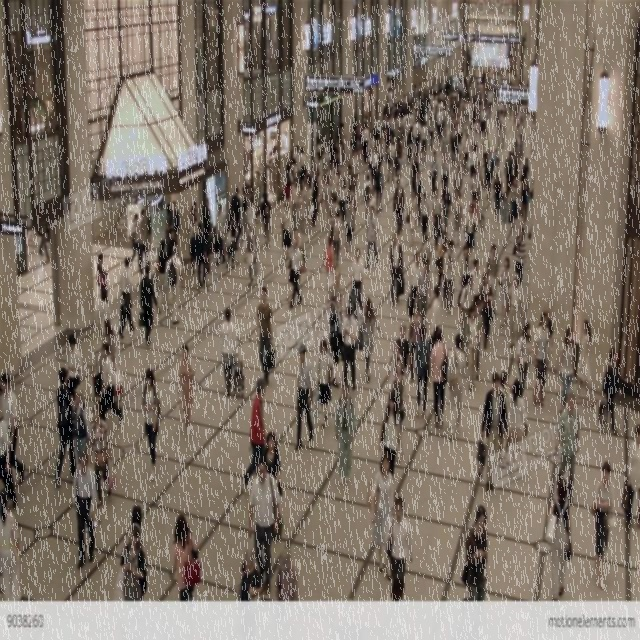pessoa: (310, 166, 399, 640), (450, 42, 530, 132), (247, 453, 285, 596), (542, 473, 576, 608), (459, 502, 491, 640), (170, 510, 202, 640), (588, 459, 619, 592), (336, 114, 432, 156), (476, 372, 509, 494), (51, 365, 82, 490), (384, 494, 414, 616), (552, 389, 582, 506), (380, 66, 450, 115), (371, 451, 396, 582), (241, 378, 269, 494), (71, 451, 98, 571), (0, 371, 26, 487), (596, 342, 624, 440), (292, 343, 316, 455), (333, 378, 357, 487), (506, 376, 530, 484), (140, 366, 162, 482), (90, 402, 114, 508), (378, 391, 405, 484), (312, 336, 338, 430), (446, 332, 468, 443), (619, 420, 640, 532), (428, 327, 450, 430), (98, 342, 124, 426), (572, 318, 596, 409), (388, 355, 408, 463), (359, 297, 384, 382), (120, 522, 146, 602), (163, 243, 186, 326), (556, 325, 576, 418), (256, 286, 274, 388), (340, 303, 360, 394), (257, 430, 284, 497), (384, 338, 404, 426), (14, 220, 54, 264), (177, 342, 196, 434), (346, 247, 366, 333), (220, 307, 239, 397), (532, 312, 550, 407), (118, 256, 138, 340), (140, 262, 160, 345), (72, 384, 92, 464), (504, 270, 524, 350), (414, 324, 431, 418), (512, 321, 532, 398), (538, 304, 554, 400), (328, 296, 344, 390), (457, 274, 475, 356), (413, 256, 433, 329), (498, 370, 512, 470), (496, 256, 514, 330), (286, 236, 304, 310), (274, 546, 298, 601), (240, 547, 264, 601), (310, 140, 344, 177), (466, 304, 480, 393), (442, 238, 458, 315), (193, 220, 211, 288), (65, 333, 83, 400), (408, 304, 423, 384), (11, 64, 27, 137), (293, 196, 310, 262), (156, 238, 170, 314), (393, 322, 411, 380), (242, 223, 258, 288), (481, 272, 494, 350), (94, 288, 112, 344), (486, 243, 500, 314), (224, 208, 240, 270), (404, 186, 420, 248), (474, 299, 486, 381), (228, 182, 242, 252), (408, 250, 422, 320), (364, 204, 379, 268), (448, 188, 464, 248), (390, 233, 403, 306), (214, 202, 228, 268), (322, 235, 335, 304), (280, 198, 294, 262), (138, 208, 150, 278), (512, 226, 526, 286), (260, 190, 274, 249), (392, 178, 406, 236), (439, 180, 454, 234), (428, 285, 442, 342), (343, 194, 356, 255), (464, 202, 478, 258), (437, 235, 448, 305), (498, 190, 511, 249), (431, 187, 443, 250), (372, 162, 386, 215), (288, 177, 302, 230), (418, 190, 431, 247), (102, 317, 118, 363), (319, 174, 332, 230), (245, 194, 258, 249), (290, 144, 307, 186), (130, 213, 142, 271), (411, 169, 423, 227), (168, 199, 180, 256), (331, 209, 342, 271), (96, 252, 112, 294), (476, 178, 488, 233), (458, 243, 472, 290), (188, 210, 198, 275), (202, 195, 212, 258), (428, 148, 440, 200), (519, 176, 531, 227), (491, 172, 503, 222), (470, 258, 483, 304), (439, 128, 451, 176), (502, 150, 514, 197), (419, 231, 432, 272), (368, 145, 379, 193), (461, 130, 472, 178), (510, 176, 520, 228), (410, 150, 420, 201), (328, 192, 343, 226), (268, 143, 278, 194), (470, 168, 481, 214), (404, 124, 416, 166), (507, 151, 519, 193), (440, 152, 450, 202), (305, 178, 315, 228), (337, 177, 348, 222), (448, 124, 459, 169), (350, 147, 360, 195), (419, 119, 429, 166), (330, 270, 346, 298), (290, 228, 304, 260), (166, 227, 179, 261), (365, 188, 378, 222), (283, 162, 294, 202), (486, 148, 494, 202), (466, 144, 478, 180), (386, 140, 396, 183), (470, 126, 480, 168), (364, 173, 372, 223), (492, 108, 502, 148), (481, 129, 490, 173), (412, 115, 422, 154), (426, 113, 436, 151), (498, 110, 508, 148), (517, 132, 526, 174), (511, 138, 520, 180), (314, 166, 321, 218), (453, 164, 463, 200), (530, 112, 537, 161), (395, 136, 403, 178), (436, 106, 444, 148), (521, 157, 531, 190), (164, 203, 172, 243), (241, 187, 248, 227), (492, 157, 502, 185), (348, 164, 356, 192), (472, 197, 480, 223), (514, 122, 522, 148), (404, 117, 412, 143), (190, 200, 199, 223), (474, 160, 482, 179), (491, 148, 498, 168), (526, 228, 534, 245), (530, 178, 535, 204)
